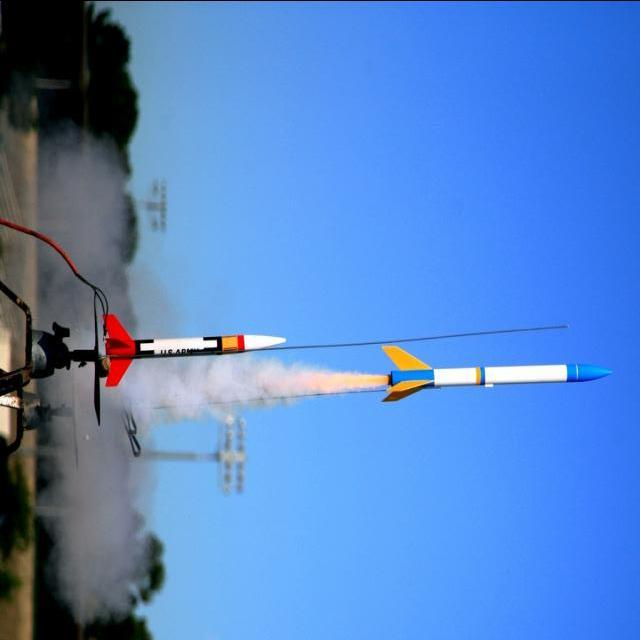missile: (377, 346, 611, 407), (106, 312, 285, 388)
